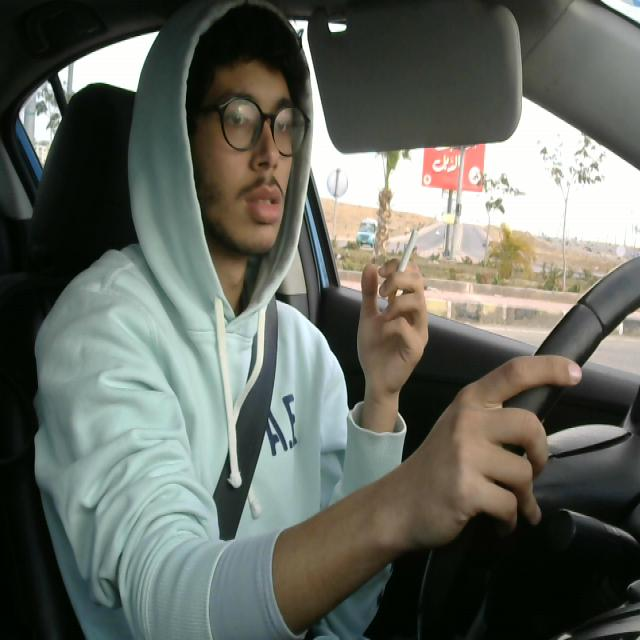smoking: (387, 223, 421, 309)
